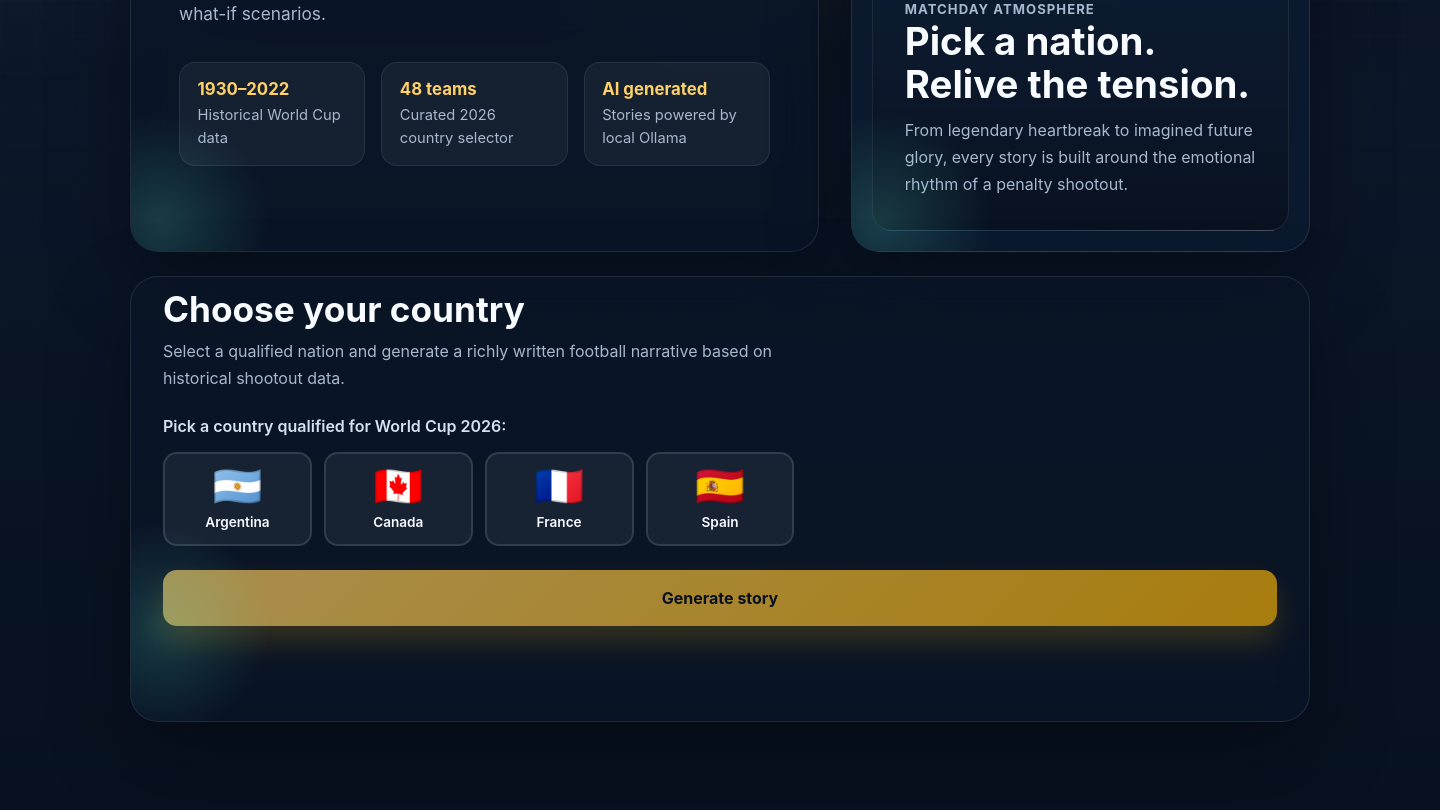
Test case: App — country selection › enables the generate button after selecting a country
(page scrolled)
What coordinates should you click on to do the following:
click the button "🇦🇷 Argentina"
I would click on:
 (237, 499)
Its box is [163, 452, 312, 546].
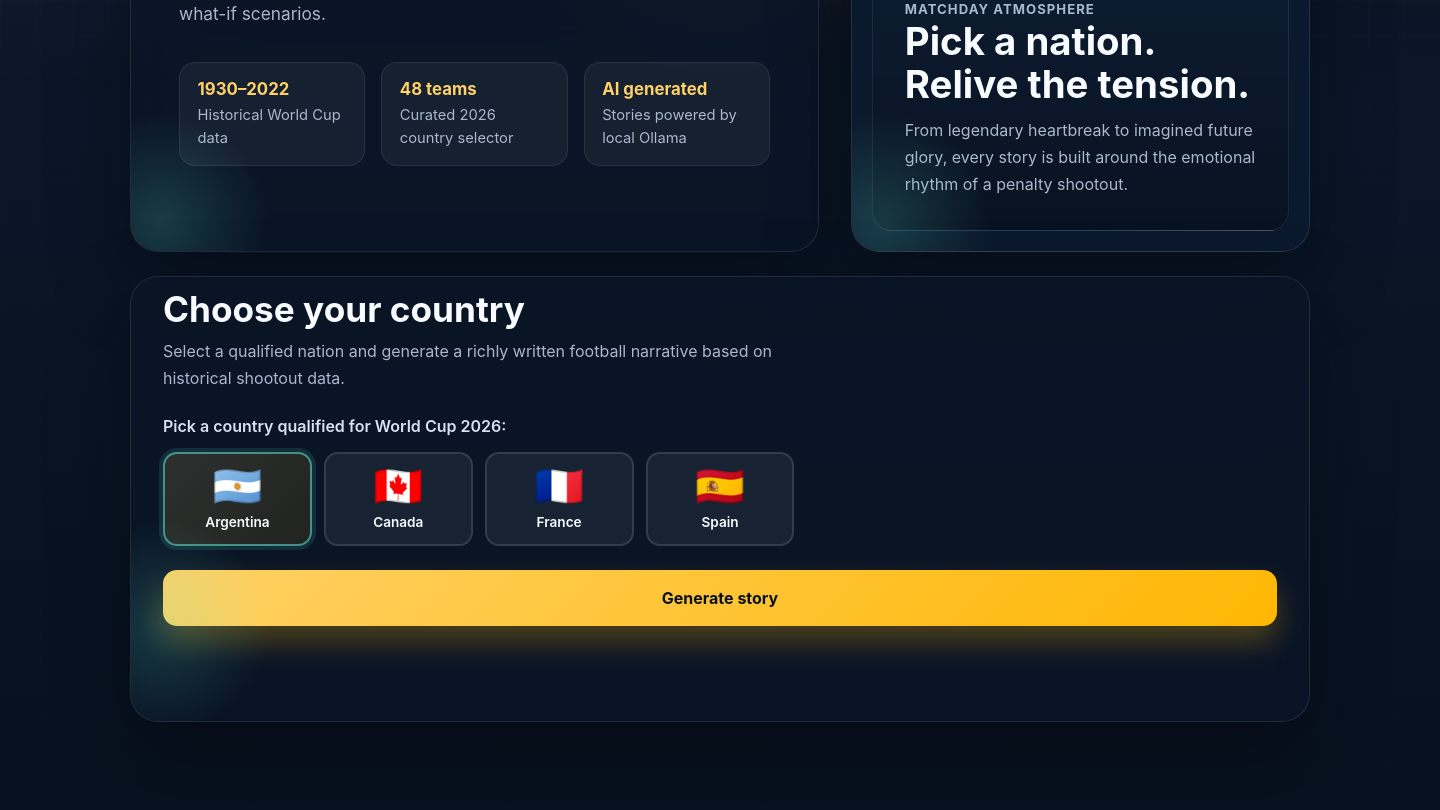
Now the button "Generate story" is enabled, box [163, 570, 1277, 626]
